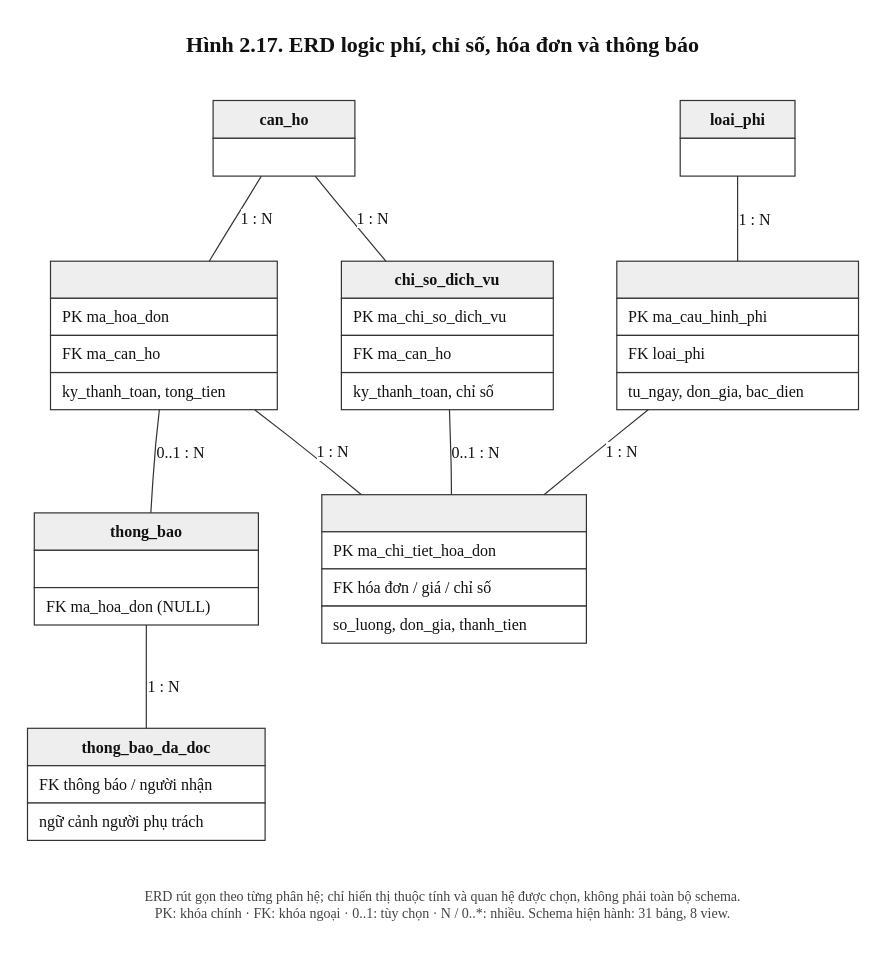
Some shapes in this 885 by 962 pixel diagram are drawn without their labels. Here are the shapes that lost their labels. From the top down, the centre of each, then its label:
At [283,156]: "PK ma_can_ho".
At [737,156]: "PK loai_phi".
At [163,279]: "hoa_don".
At [737,279]: "cau_hinh_phi".
At [453,513]: "chi_tiet_hoa_don".
At [145,568]: "PK ma_thong_bao".
